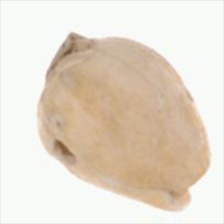L3: (168, 163, 211, 209)
L4: (36, 33, 211, 211)
